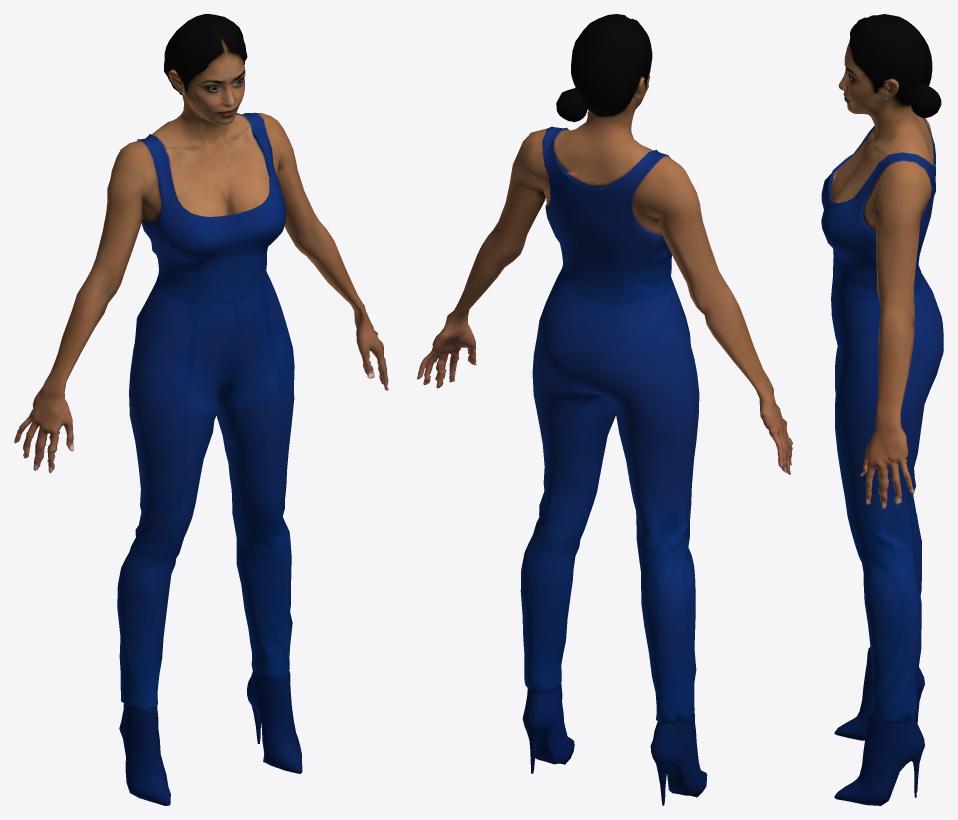
The model's file is priya-desai.glb.
3 views of the same model, side by side, from view 1: azimuth 30°, elevation 25°; view 2: azimuth 150°, elevation 25°; view 3: azimuth 270°, elevation 25° (orthographic).
Visible parts, largest first — view 1: geometry_0; view 2: geometry_0; view 3: geometry_0.
Part boxes in pixels (x1,y1,x2,y2): geometry_0: [14, 14, 388, 805]; geometry_0: [417, 14, 792, 805]; geometry_0: [821, 14, 943, 805].
Size of the model in its own units: 0.4771 by 0.9502 by 0.1406.
1 material, 1 textured.
